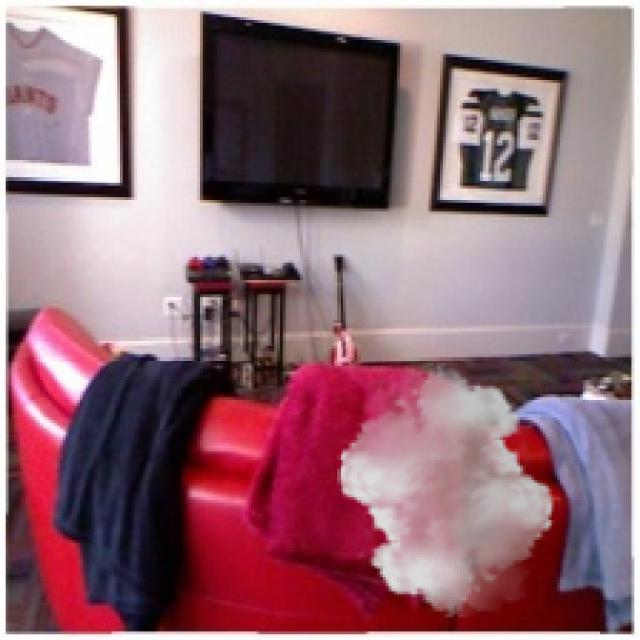Smoke: (328, 362, 563, 618)
